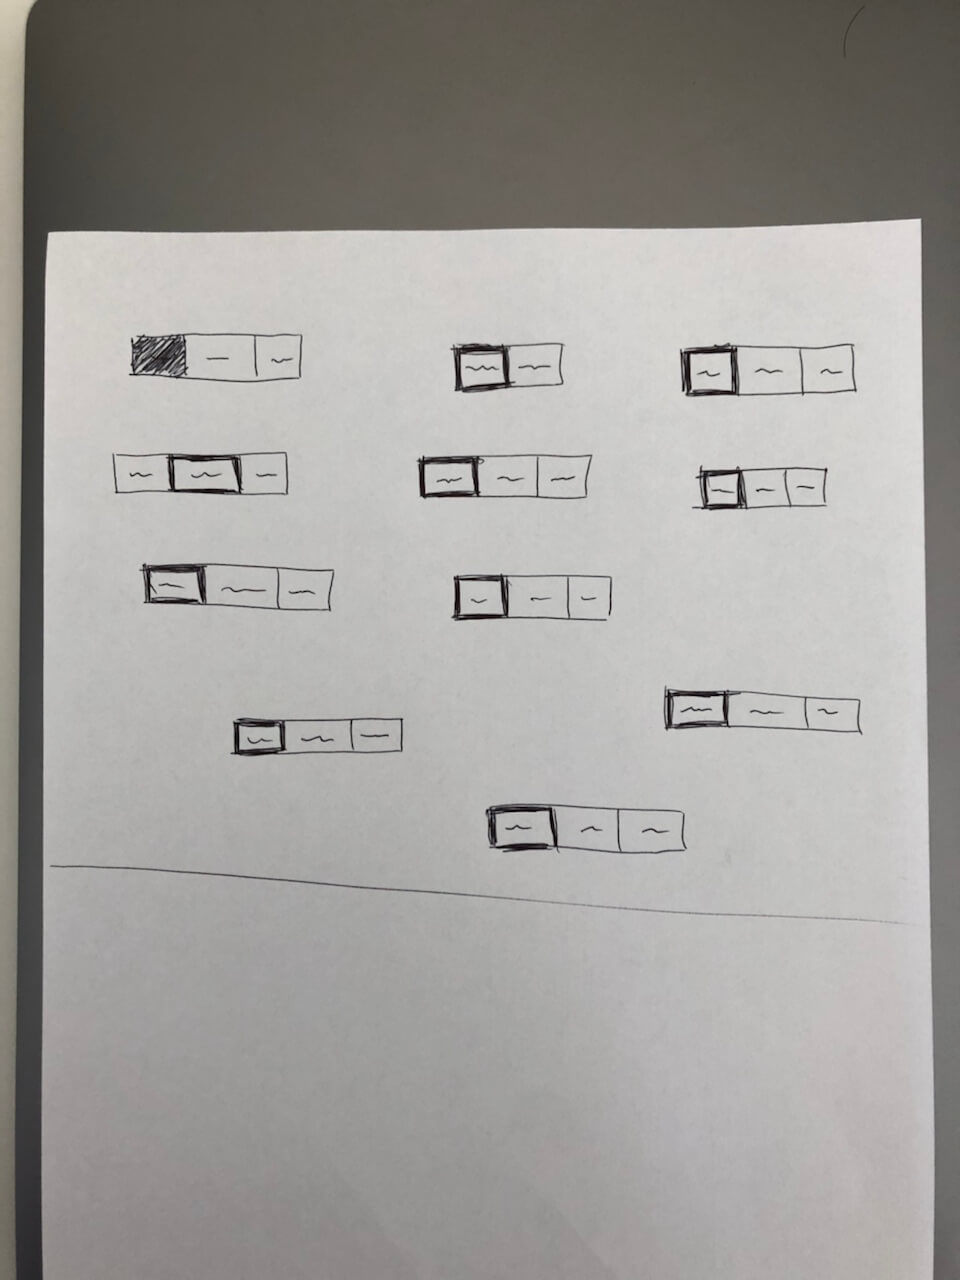radio-group: (480, 793, 698, 866), (657, 677, 871, 749), (105, 441, 309, 507), (670, 337, 864, 404), (412, 442, 607, 508), (444, 564, 625, 632), (228, 705, 411, 763), (693, 458, 839, 519), (444, 335, 571, 398)
